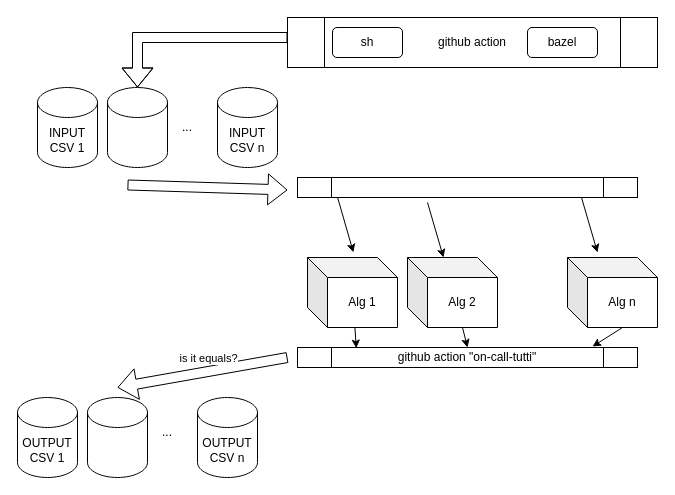
This 675x495 diagram has some shape labels left out. The shapes that lost their labels are listed below. From the top down, each one's centre as x and y in pixels, then its label:
(137,127): INPUT CSV 2
(467,187): for each
(117,437): OUTPUT CSV 2
